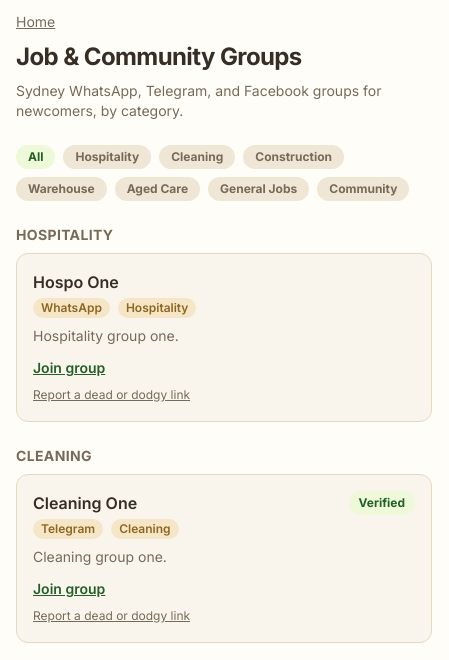
Test: GroupsPage › filters to a single category when selected
This screenshot has width=449, height=660.
Step 1. Click the button "Hospitality" → {"x": 107, "y": 157}, box [64,145,151,169]
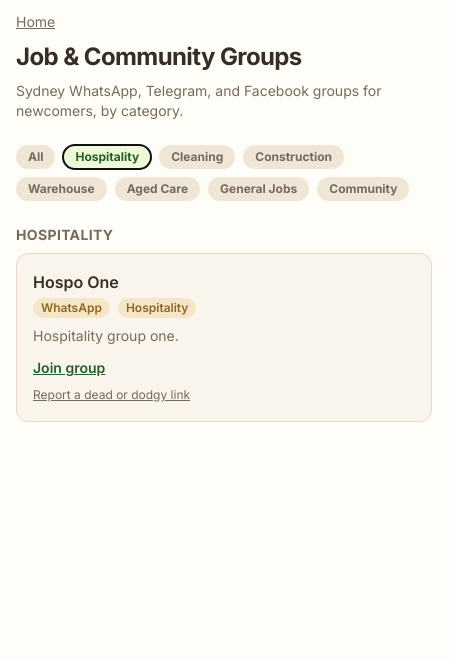
Expected: the heading "Hospo One" is shown, [33,270,119,294]
Expected: the heading "Cleaning One" is gone
